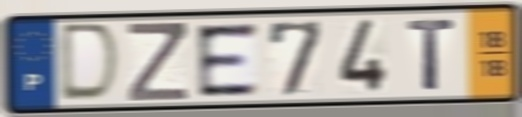4: (336, 16, 391, 97)
7: (265, 18, 325, 99)
D: (56, 21, 124, 106)
E: (192, 20, 262, 100)
T: (405, 17, 459, 93)
Z: (125, 20, 191, 104)
